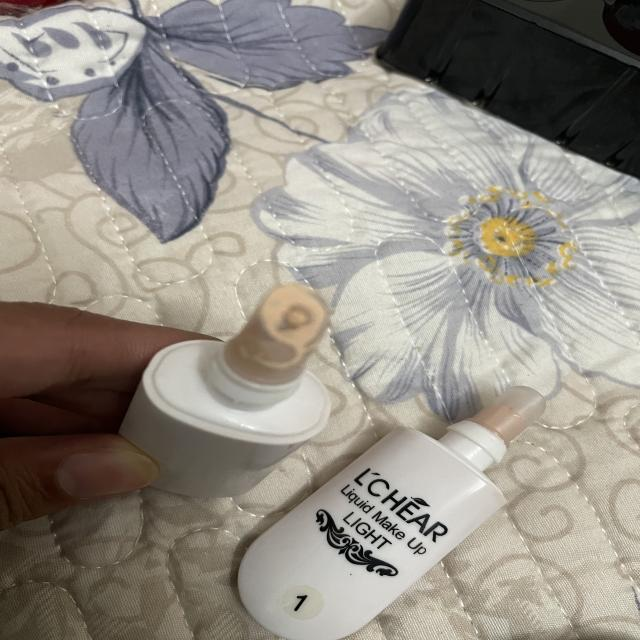concealer: (223, 372, 570, 640), (96, 269, 362, 499)
